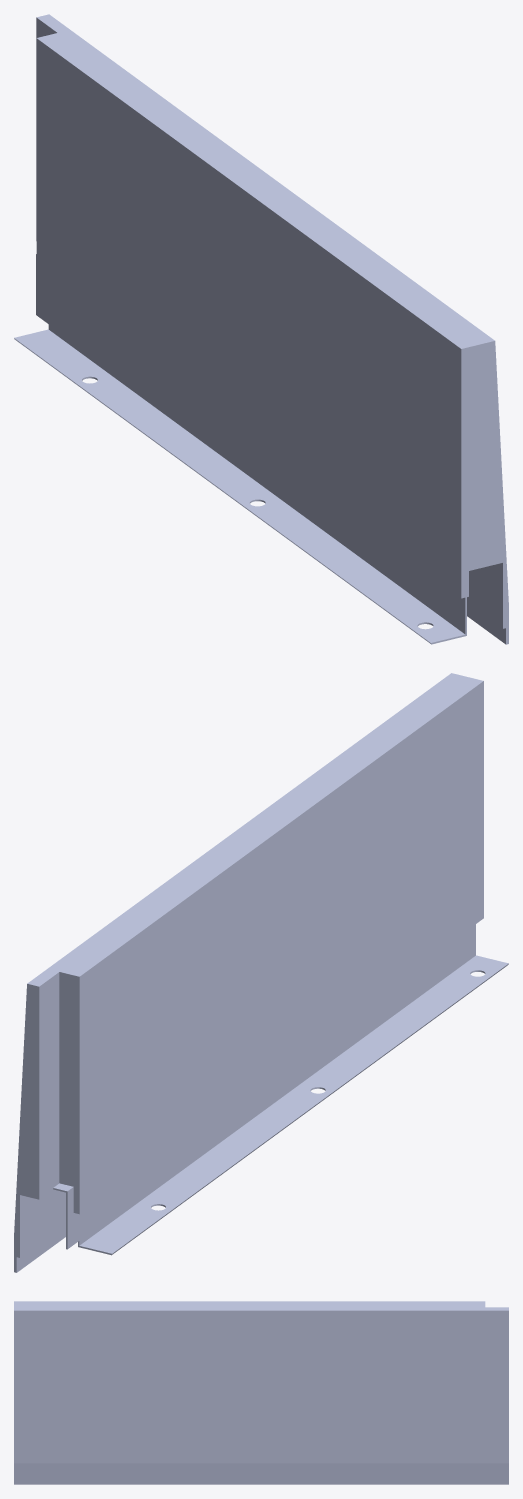
File: mv-kava-K350-m.glb
3 renders of one model, top to bottom at view 1: azimuth 30°, elevation 25°; view 2: azimuth 150°, elevation 25°; view 3: azimuth 270°, elevation 25°, orthographic. The views are drawn at different scales.
Parts seen in each view (by area): view 1: 41577272; view 2: 41577272; view 3: 41577272.
Boxes of the visible parts, bbox=[...] form: 41577272: bbox=[14, 14, 508, 644]; 41577272: bbox=[14, 673, 508, 1272]; 41577272: bbox=[14, 1301, 508, 1484].
Size of the model in its own units: 0.0335 by 0.129 by 0.3402.
